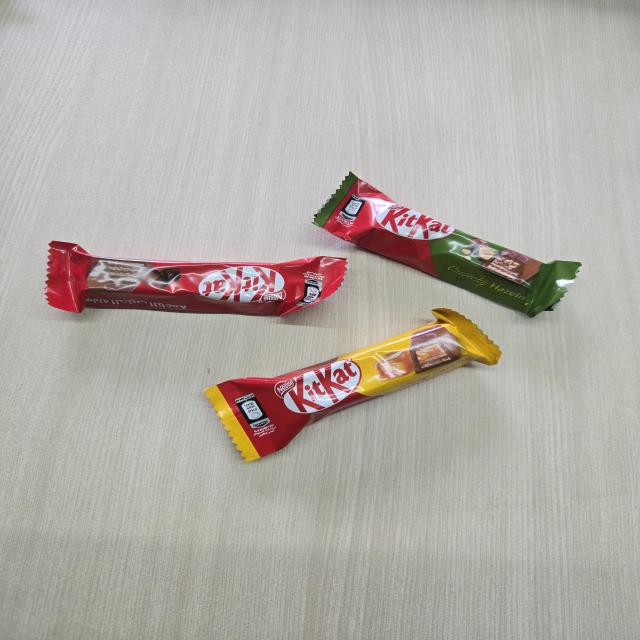chocolate-bar: (199, 305, 506, 474), (308, 168, 590, 320), (41, 238, 362, 321)
